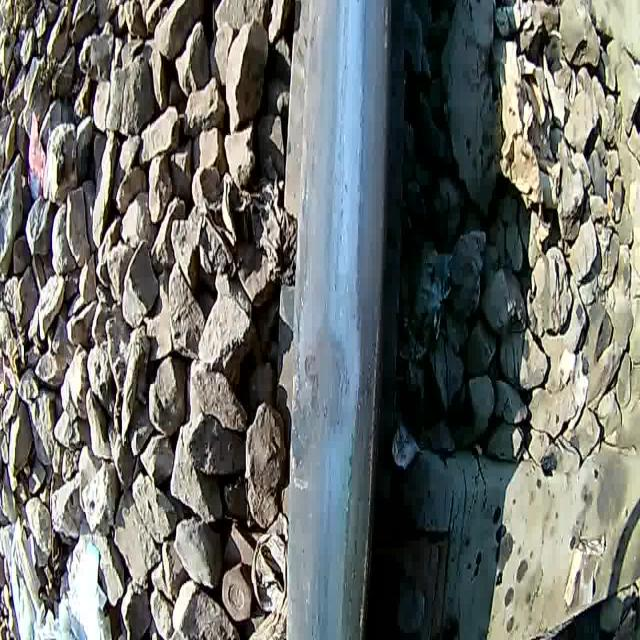Squats: (300, 331, 354, 439)
